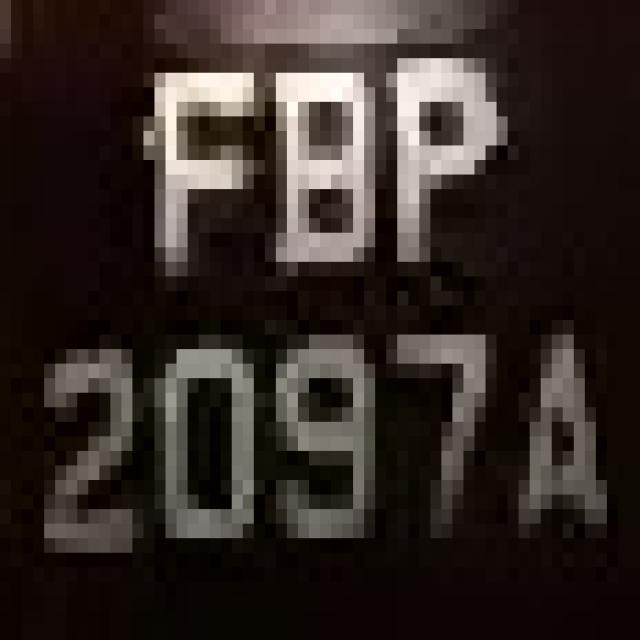0: (154, 306, 265, 596)
2: (11, 291, 155, 596)
7: (375, 291, 508, 553)
9: (243, 320, 397, 596)
A: (485, 306, 618, 596)
B: (254, 29, 364, 291)
F: (121, 29, 276, 291)
P: (375, 29, 508, 276)
